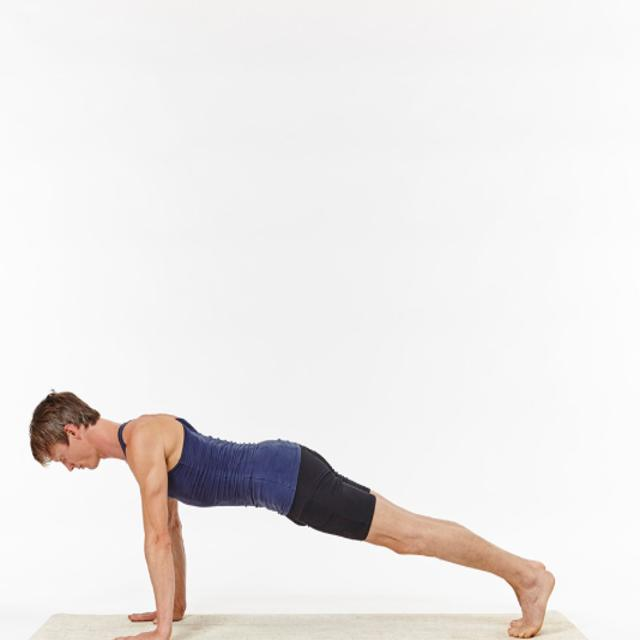Plank_Pose: (29, 386, 560, 640)
